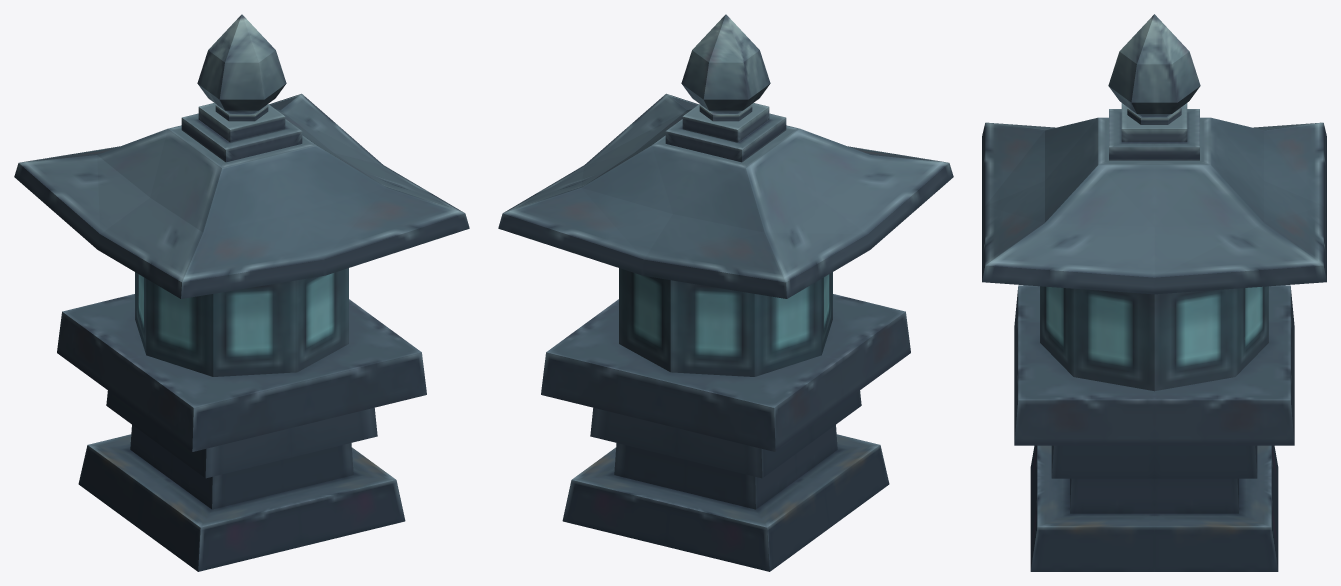
Rendered from fb_tys_zj_06_b.FBX.
The picture shows the model from 3 angles, left to right: view 1: azimuth 30°, elevation 25°; view 2: azimuth 150°, elevation 25°; view 3: azimuth 270°, elevation 25°; orthographic projection. The views are drawn at different scales.
Parts seen in each view (by area): view 1: fb_tys_zj_06_b; view 2: fb_tys_zj_06_b; view 3: fb_tys_zj_06_b.
Part boxes in pixels (<box>): fb_tys_zj_06_b: <box>14,14,469,571</box>; fb_tys_zj_06_b: <box>498,14,953,571</box>; fb_tys_zj_06_b: <box>982,14,1326,571</box>.
Bounding box in the file's own units: 145 × 235 × 145.
